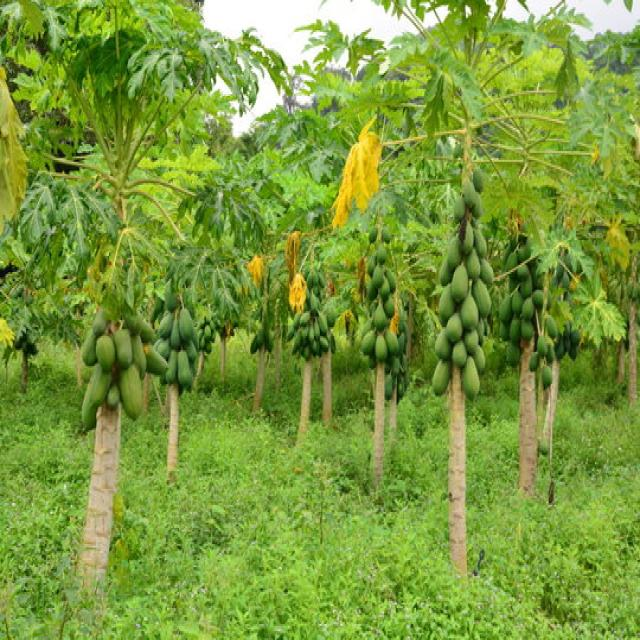Papaya-Tree: (428, 3, 624, 551), (40, 10, 210, 584), (245, 14, 410, 507)
